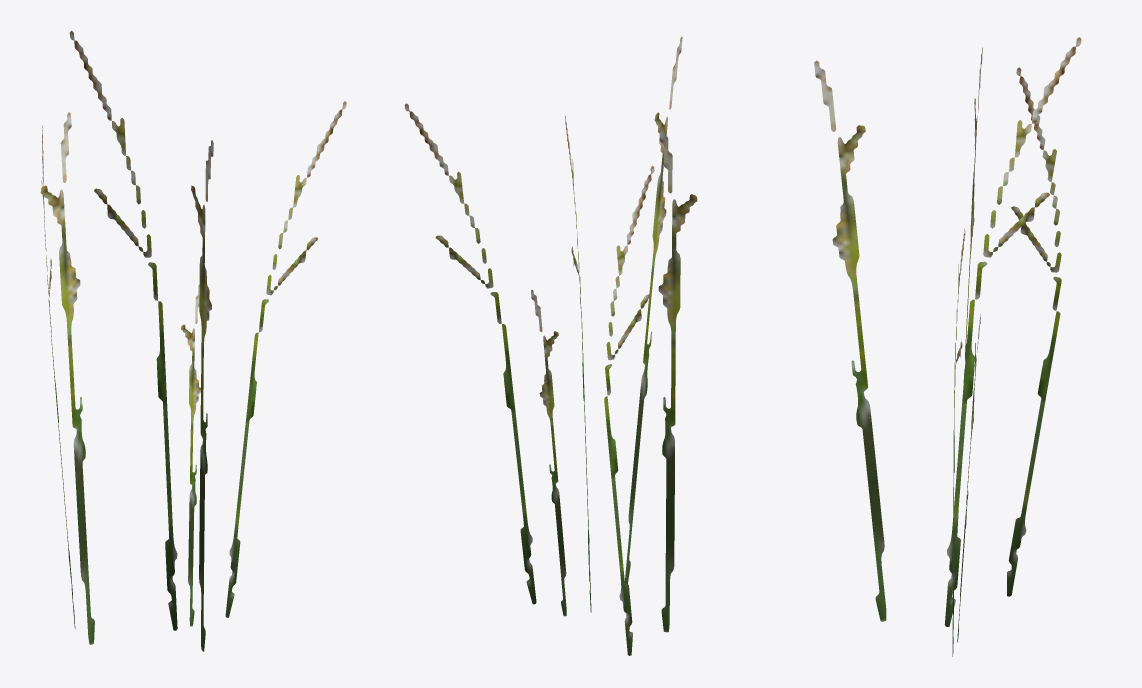
File: psx_reed.glb
The picture shows the model from 3 angles, left to right: view 1: azimuth 30°, elevation 25°; view 2: azimuth 150°, elevation 25°; view 3: azimuth 270°, elevation 25°; orthographic projection. The views are drawn at different scales.
Parts seen in each view (by area): view 1: _MeshInstance3D_5; view 2: _MeshInstance3D_5; view 3: _MeshInstance3D_5.
Part boxes in pixels (<box>): _MeshInstance3D_5: <box>40,30,346,651</box>; _MeshInstance3D_5: <box>404,36,697,655</box>; _MeshInstance3D_5: <box>814,37,1081,656</box>.
Bounding box in the file's own units: 0.7704 × 1.32 × 0.7227.
Materials: 1 (1 with a texture image).
